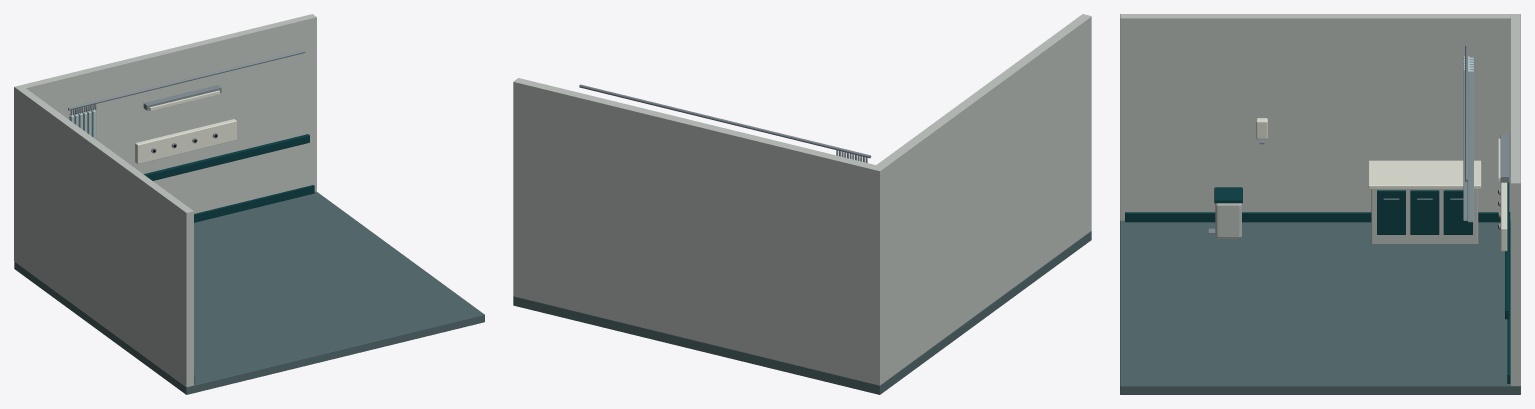
Rendered from asset.fbx.
3 renders of one model, left to right at view 1: azimuth 30°, elevation 25°; view 2: azimuth 150°, elevation 25°; view 3: azimuth 270°, elevation 25°, orthographic. The views are drawn at different scales.
Parts seen in each view (by area): view 1: radcare_treatment_room_floor_slab, radcare_treatment_room_left_wall, radcare_treatment_room_back_wall, radcare_treatment_room_headwall_panel, radcare_treatment_room_wall_bumper, radcare_treatment_room_back_skirt, radcare_treatment_room_curtain_track, radcare_treatment_room, radcare_treatment_room_wall_light_mount; view 2: radcare_treatment_room_back_wall, radcare_treatment_room_left_wall, radcare_treatment_room_floor_slab, radcare_treatment_room_curtain_track; view 3: radcare_treatment_room_left_wall, radcare_treatment_room_floor_slab, radcare_treatment_room, radcare_treatment_room_back_wall, radcare_treatment_room_counter, radcare_treatment_room_left_skirt, radcare_treatment_room_cabinet, radcare_treatment_room_disposal_bin, radcare_treatment_room_headwall_panel, radcare_treatment_room_wall_bumper, radcare_treatment_room_bin_lid, radcare_treatment_room_wall_light_mount (+2 smaller).
Boxes of the visible parts, <box> form: radcare_treatment_room_floor_slab: <box>14,191,484,394</box>; radcare_treatment_room_left_wall: <box>18,88,193,387</box>; radcare_treatment_room_back_wall: <box>14,14,316,263</box>; radcare_treatment_room_headwall_panel: <box>135,119,236,164</box>; radcare_treatment_room_wall_bumper: <box>143,134,309,180</box>; radcare_treatment_room_back_skirt: <box>194,185,314,222</box>; radcare_treatment_room_curtain_track: <box>68,50,305,110</box>; radcare_treatment_room: <box>69,104,217,153</box>; radcare_treatment_room_wall_light_mount: <box>143,85,221,110</box>; radcare_treatment_room_back_wall: <box>513,78,885,385</box>; radcare_treatment_room_left_wall: <box>876,14,1091,381</box>; radcare_treatment_room_floor_slab: <box>513,231,1091,394</box>; radcare_treatment_room_curtain_track: <box>579,84,871,158</box>; radcare_treatment_room_left_wall: <box>1120,14,1510,220</box>; radcare_treatment_room_floor_slab: <box>1120,221,1520,394</box>; radcare_treatment_room: <box>1377,56,1500,234</box>; radcare_treatment_room_back_wall: <box>1511,14,1520,385</box>; radcare_treatment_room_counter: <box>1368,160,1481,189</box>; radcare_treatment_room_left_skirt: <box>1125,212,1500,222</box>; radcare_treatment_room_cabinet: <box>1371,189,1478,244</box>; radcare_treatment_room_disposal_bin: <box>1215,203,1241,238</box>; radcare_treatment_room_headwall_panel: <box>1500,182,1507,251</box>; radcare_treatment_room_wall_bumper: <box>1505,182,1509,319</box>; radcare_treatment_room_bin_lid: <box>1214,187,1242,203</box>; radcare_treatment_room_wall_light_mount: <box>1500,134,1509,182</box>.
Size of the model in its own units: 4.8 by 2.8 by 4.8.
